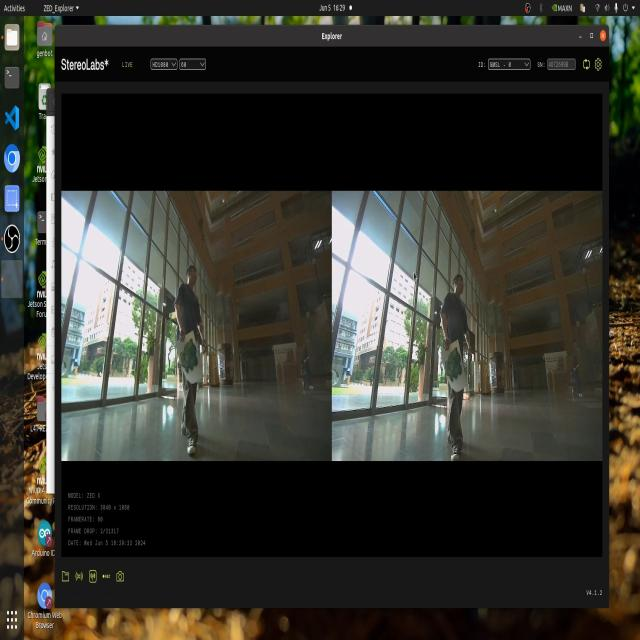green: (170, 326, 208, 387), (441, 342, 467, 395)
